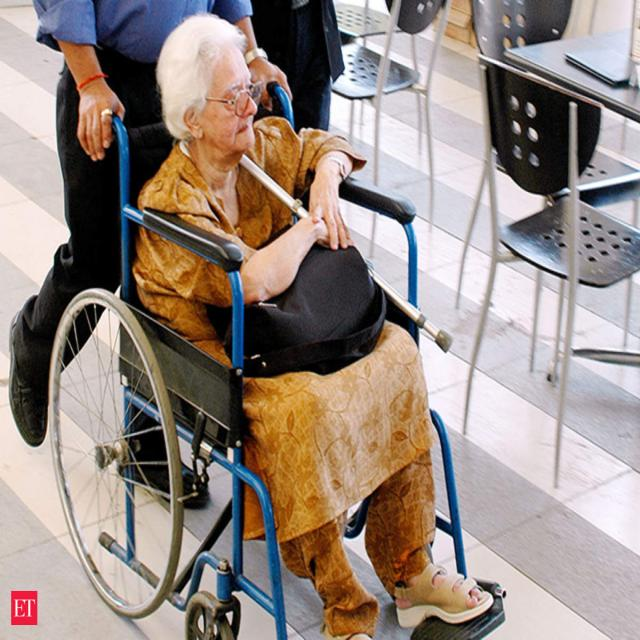wheelchairs: (42, 78, 526, 640)
